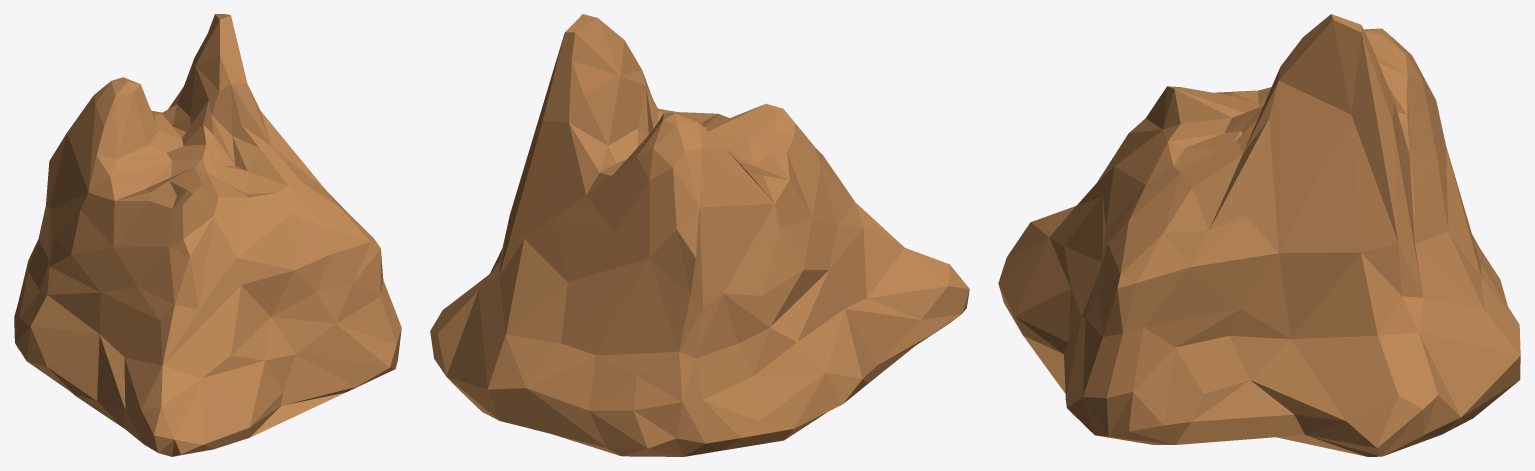
The model's file is RockSand_06.glb.
The picture shows the model from 3 angles, left to right: view 1: azimuth 30°, elevation 25°; view 2: azimuth 150°, elevation 25°; view 3: azimuth 270°, elevation 25°; orthographic projection. The views are drawn at different scales.
Parts seen in each view (by area): view 1: RockSand_06; view 2: RockSand_06; view 3: RockSand_06.
Boxes of the visible parts, <box> form: RockSand_06: <box>14,14,401,456</box>; RockSand_06: <box>430,14,969,456</box>; RockSand_06: <box>998,14,1520,456</box>.
Size of what is drawn, in the model's own units: 4.27 by 3.85 by 4.79.
Materials: 1 (1 with a texture image).
